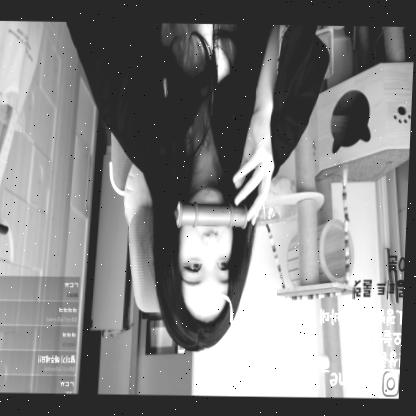streamer: (53, 20, 331, 351)
